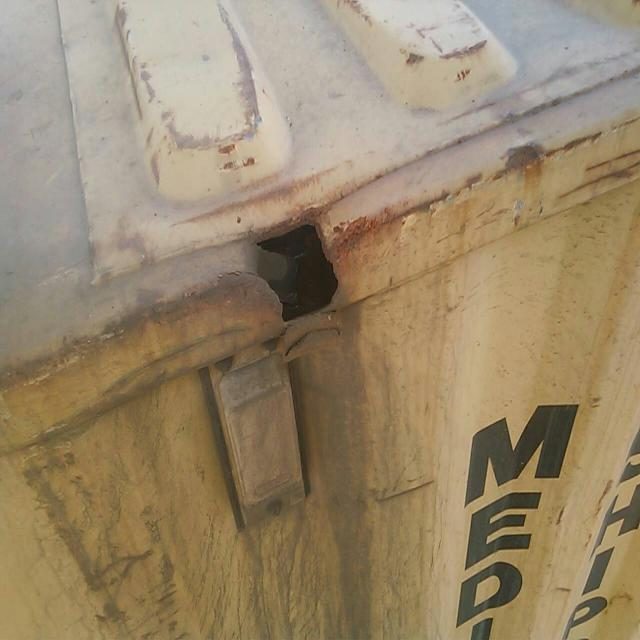hole: (239, 211, 354, 333)
